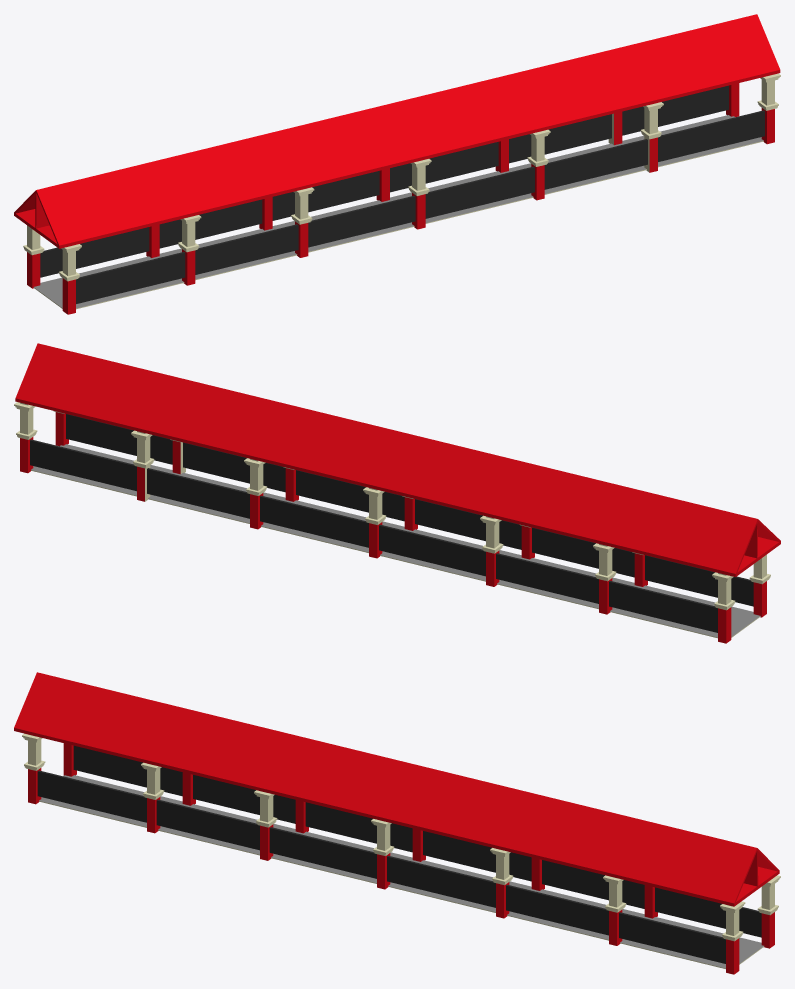
The model's file is walkingshed.fbx.
The picture shows the model from 3 angles, top to bottom: view 1: azimuth 30°, elevation 25°; view 2: azimuth 150°, elevation 25°; view 3: azimuth 330°, elevation 25°; orthographic projection.
Visible parts, largest first — view 1: Cube.008, Cube.004, Cube.007, Cube.003; view 2: Cube.008, Cube.007, Cube.004, Cube.003; view 3: Cube.008, Cube.004, Cube.003, Cube.007.
Boxes of the visible parts, x1,y1,x2,y2 form: Cube.008: (14,99,429,248); Cube.004: (397,14,780,163); Cube.007: (23,159,431,314); Cube.003: (385,73,780,229); Cube.008: (364,434,780,576); Cube.007: (363,487,770,643); Cube.004: (15,343,408,486); Cube.003: (14,402,412,552); Cube.008: (14,672,407,821); Cube.004: (385,763,779,906); Cube.003: (371,819,780,974); Cube.007: (22,733,420,883).
Bounding box in the file's own units: 1838 × 274 × 202.
